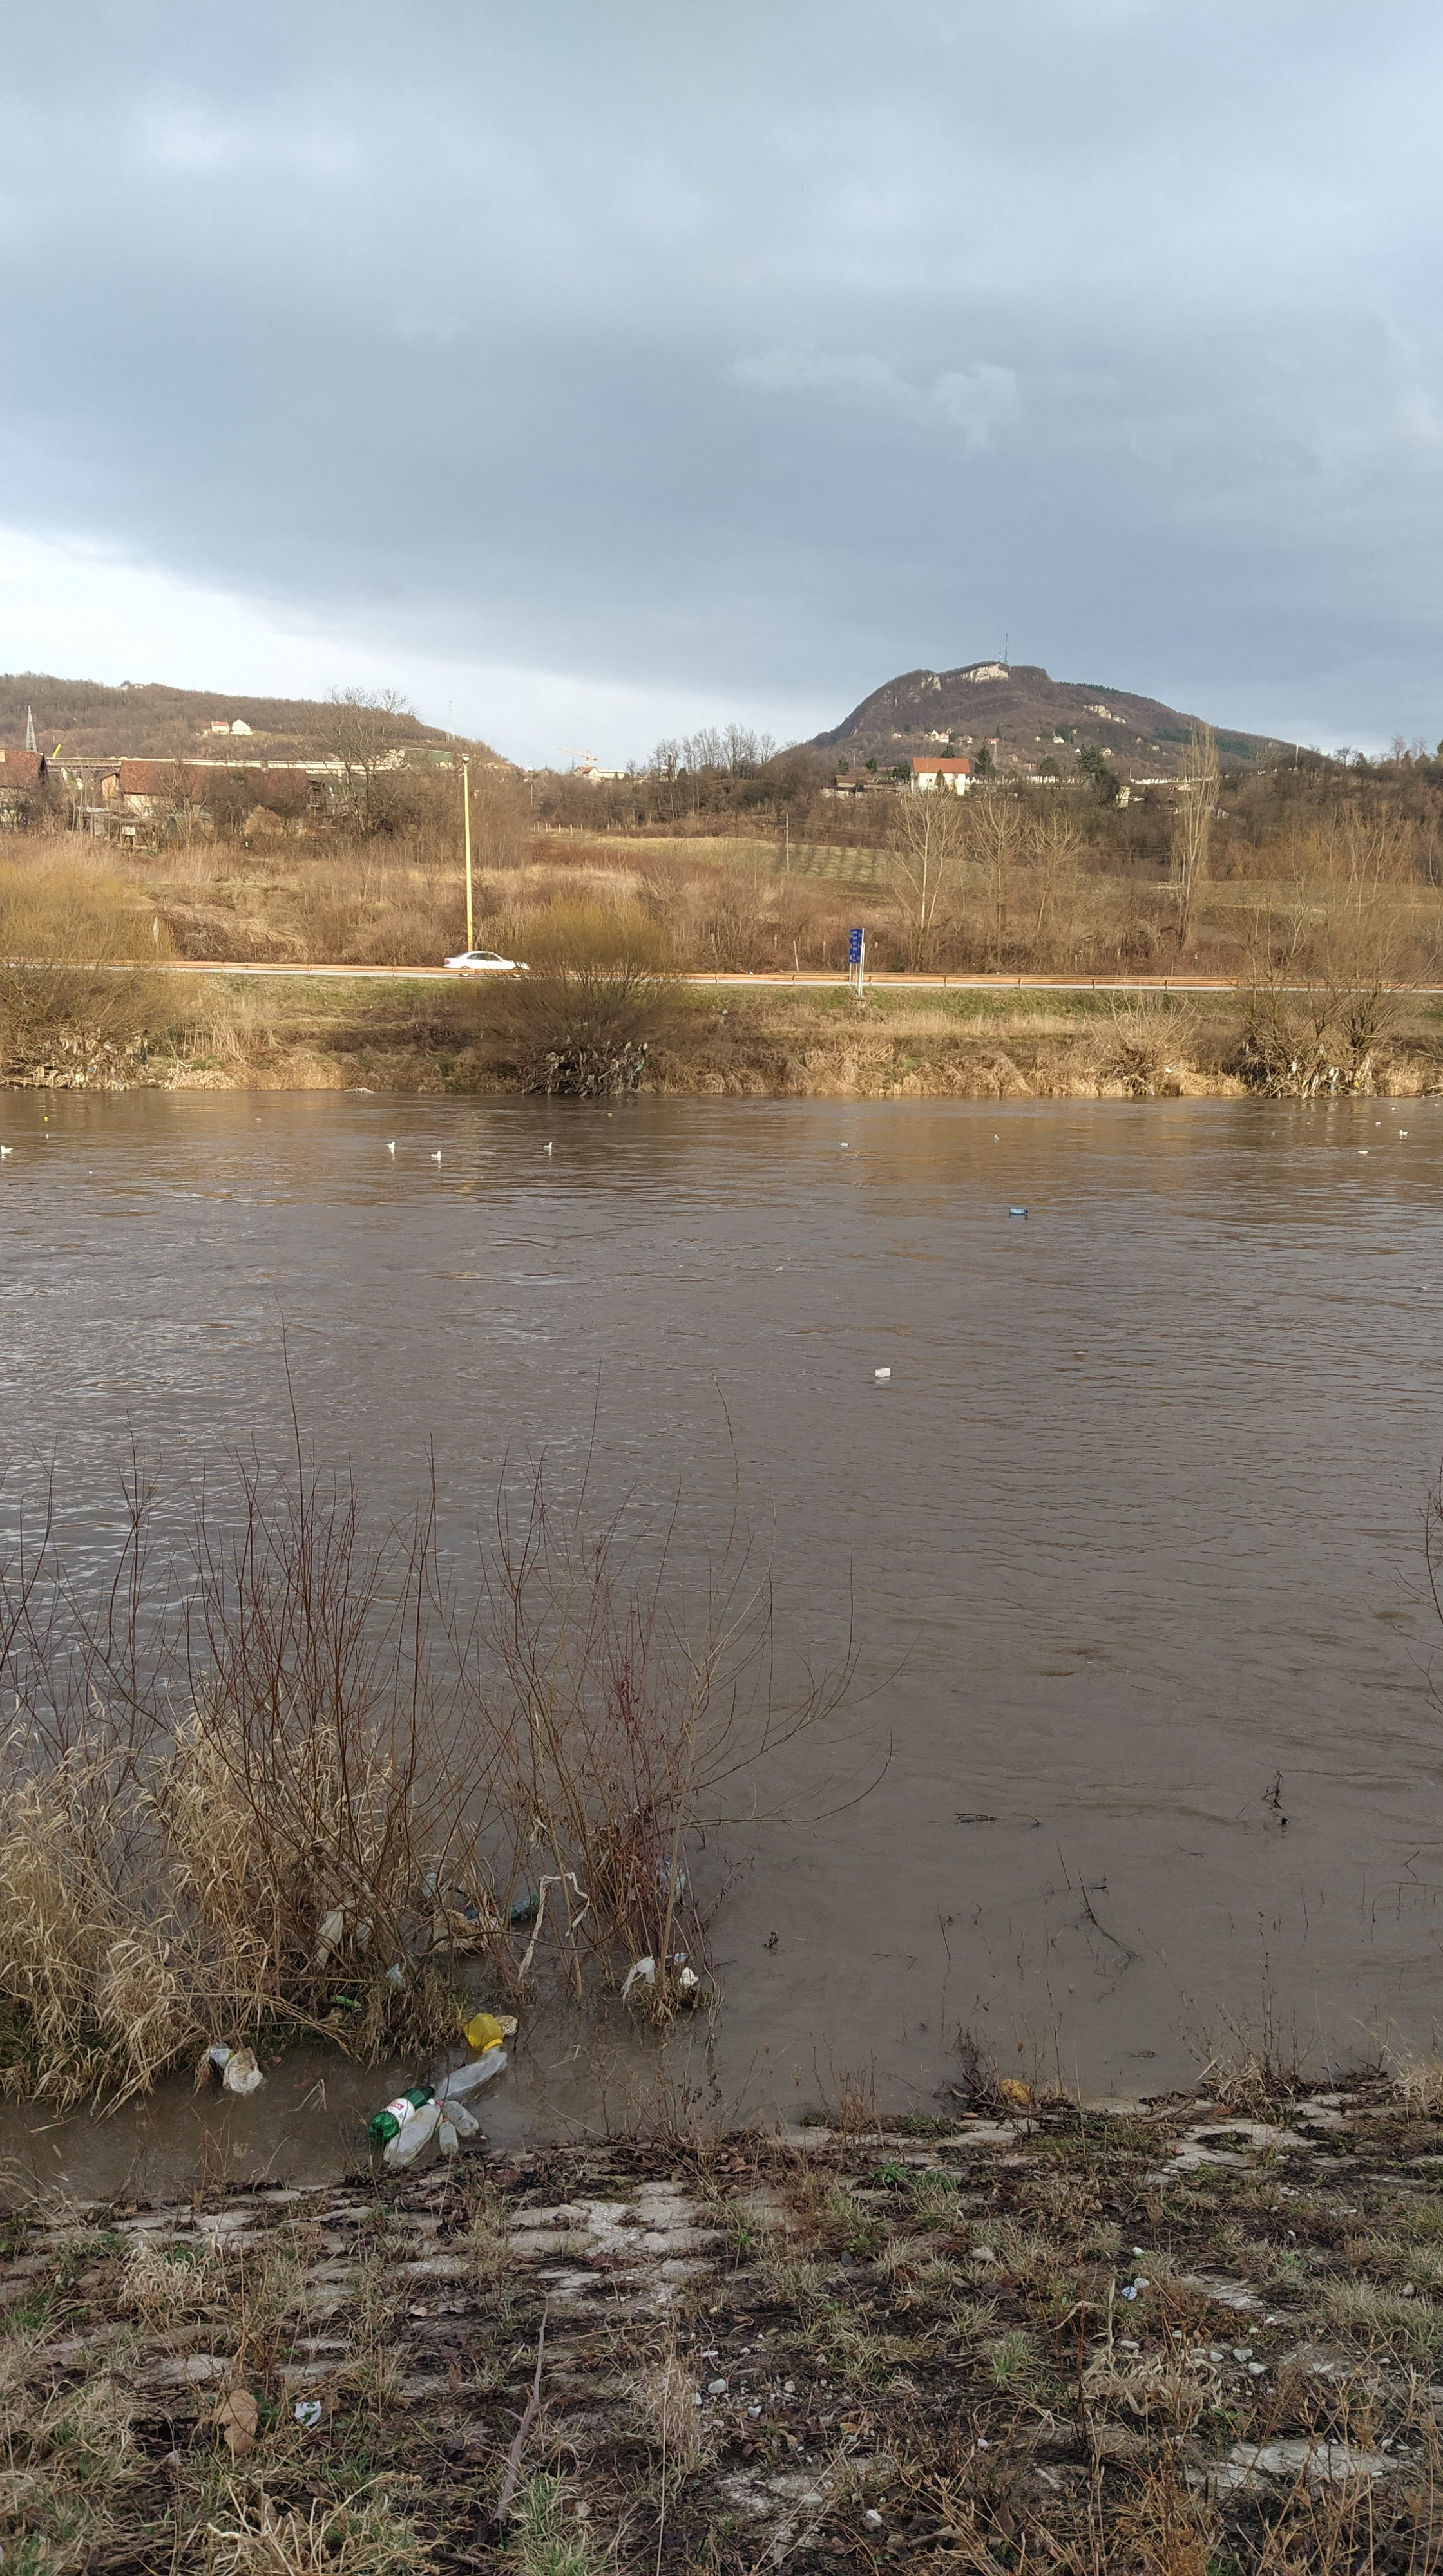Plastic Bottle: (425, 2045, 508, 2102), (367, 2084, 436, 2143), (384, 2100, 441, 2167), (462, 2012, 501, 2051), (437, 2100, 478, 2135), (505, 1891, 542, 1923), (439, 2118, 459, 2157), (423, 1872, 436, 1897), (875, 1368, 891, 1376), (464, 1905, 476, 1916), (1009, 1207, 1027, 1214), (774, 1265, 783, 1272), (1358, 1150, 1369, 1155), (839, 1141, 846, 1146)
